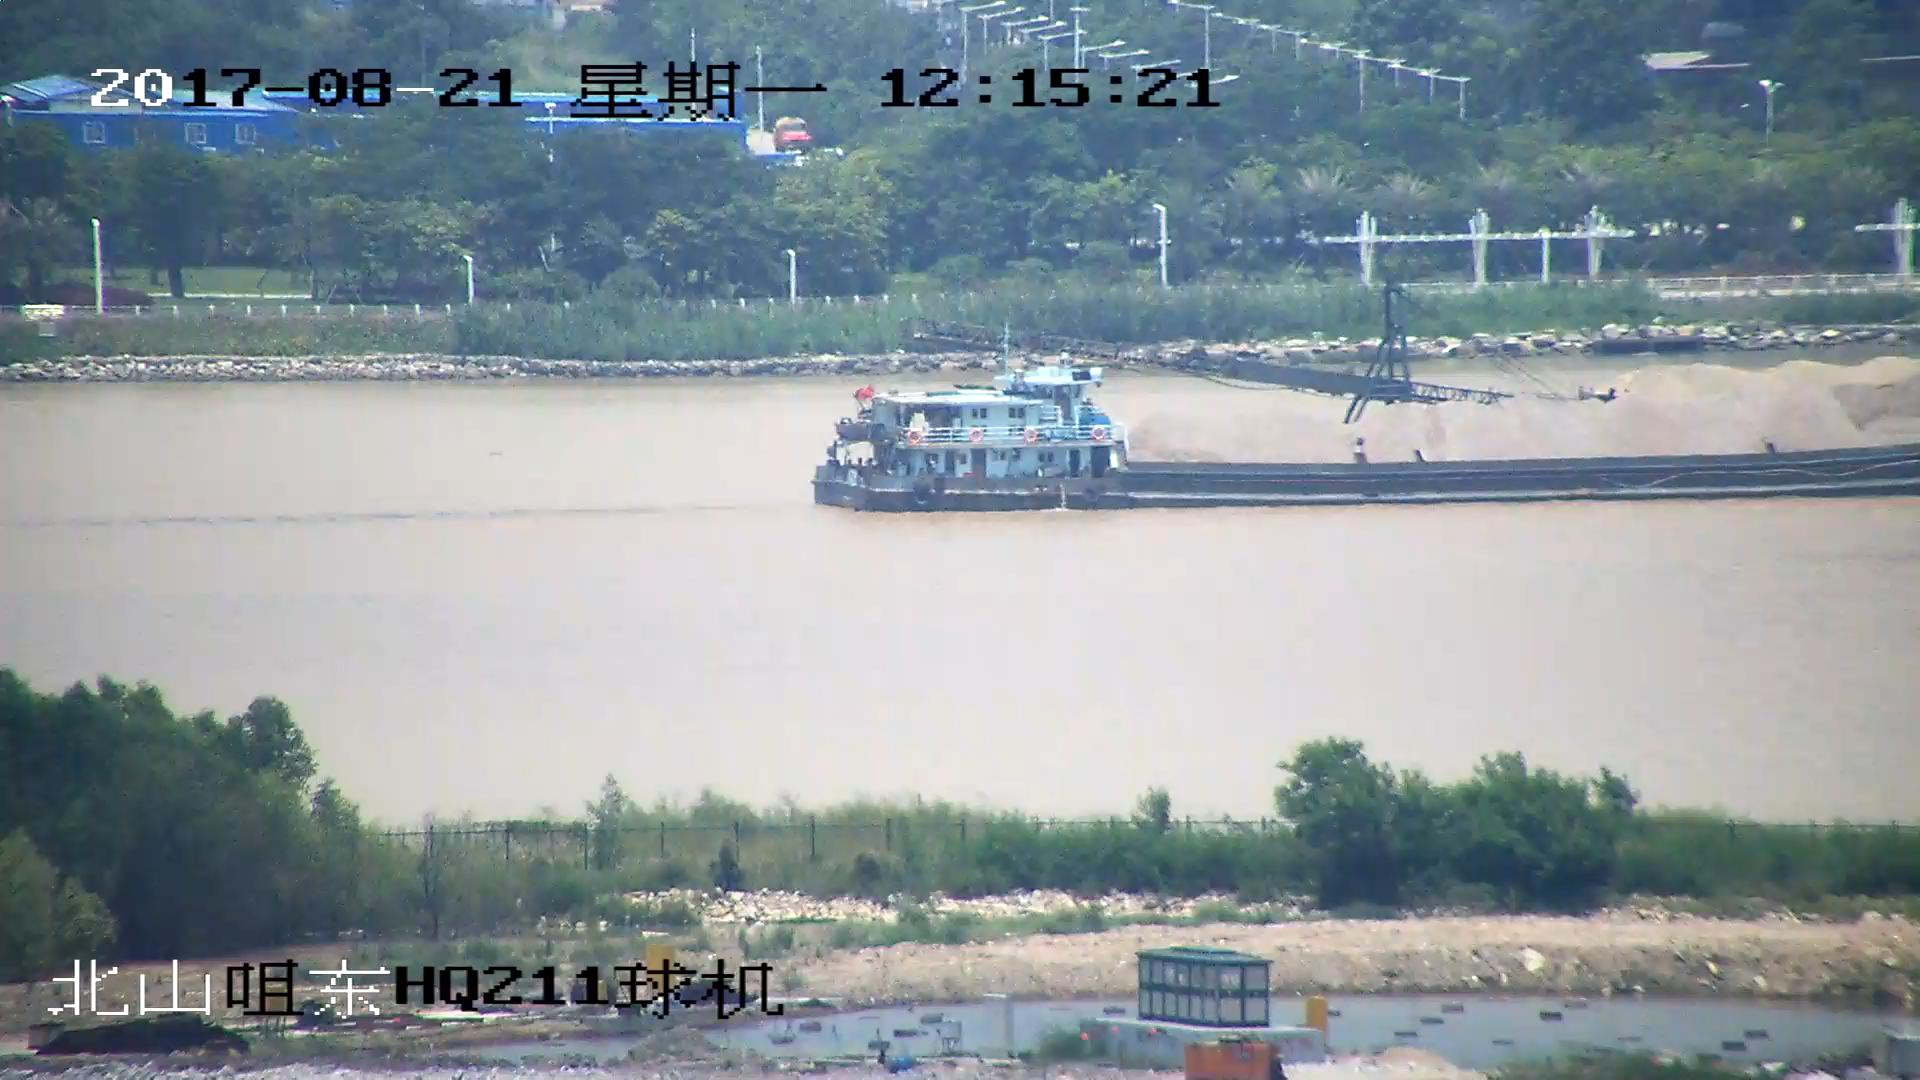ore carrier: (807, 370, 1920, 499), (912, 304, 1920, 402)
